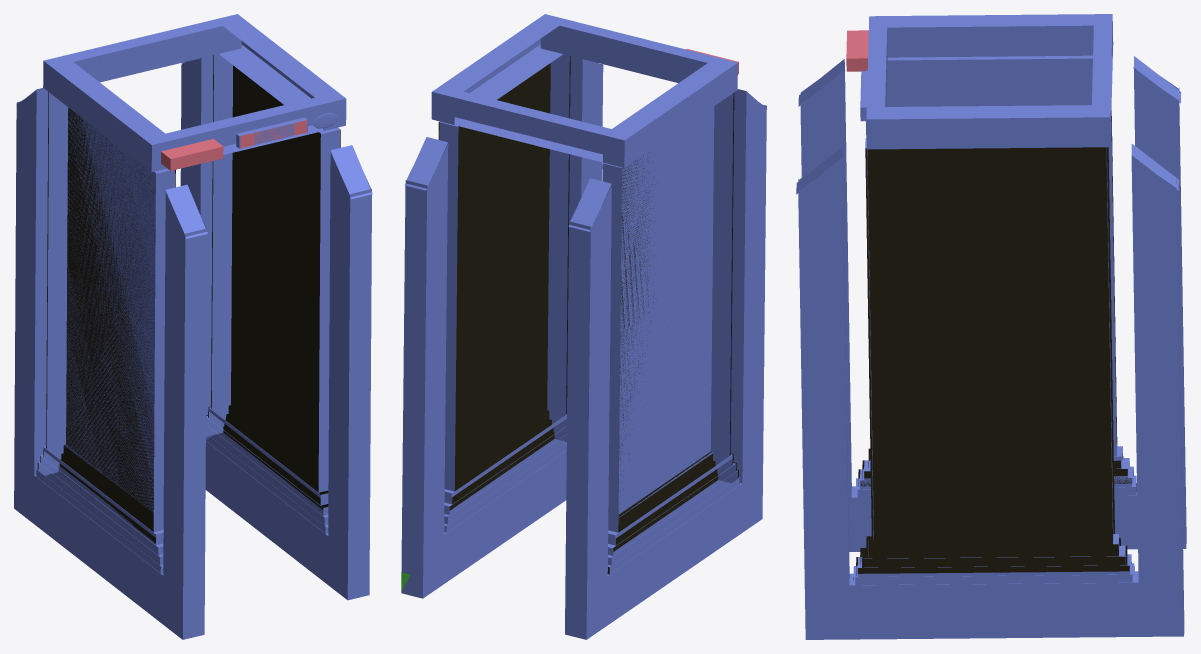
Rendered from sensor.fbx.
The picture shows the model from 3 angles, left to right: view 1: azimuth 30°, elevation 25°; view 2: azimuth 150°, elevation 25°; view 3: azimuth 270°, elevation 25°; orthographic projection. The views are drawn at different scales.
Parts seen in each view (by area): view 1: Plane; view 2: Plane; view 3: Plane.
Boxes of the visible parts, box(x1,y1,x2,y2) form: Plane: box(14, 14, 372, 639); Plane: box(401, 14, 767, 639); Plane: box(796, 14, 1186, 639).
Size of the model in its own units: 370 by 866 by 582.
